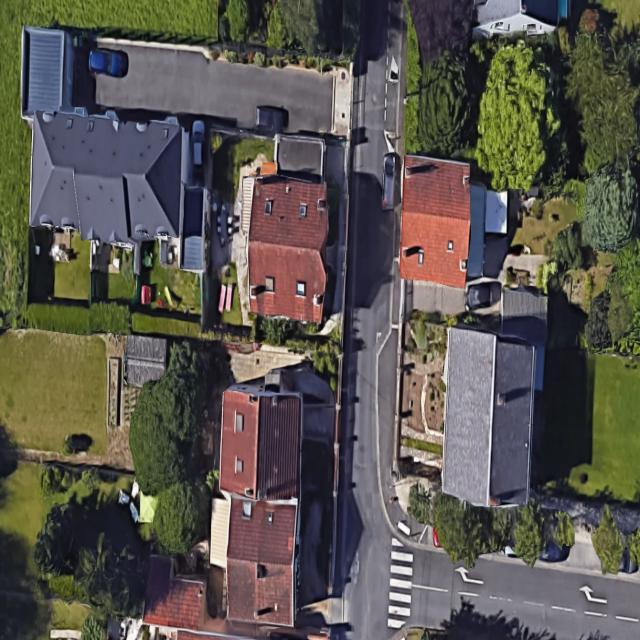immeuble: (16, 33, 187, 259)
maison: (440, 311, 545, 508), (242, 172, 333, 323), (387, 155, 482, 289), (219, 384, 302, 500), (226, 497, 297, 625), (471, 0, 571, 37)
